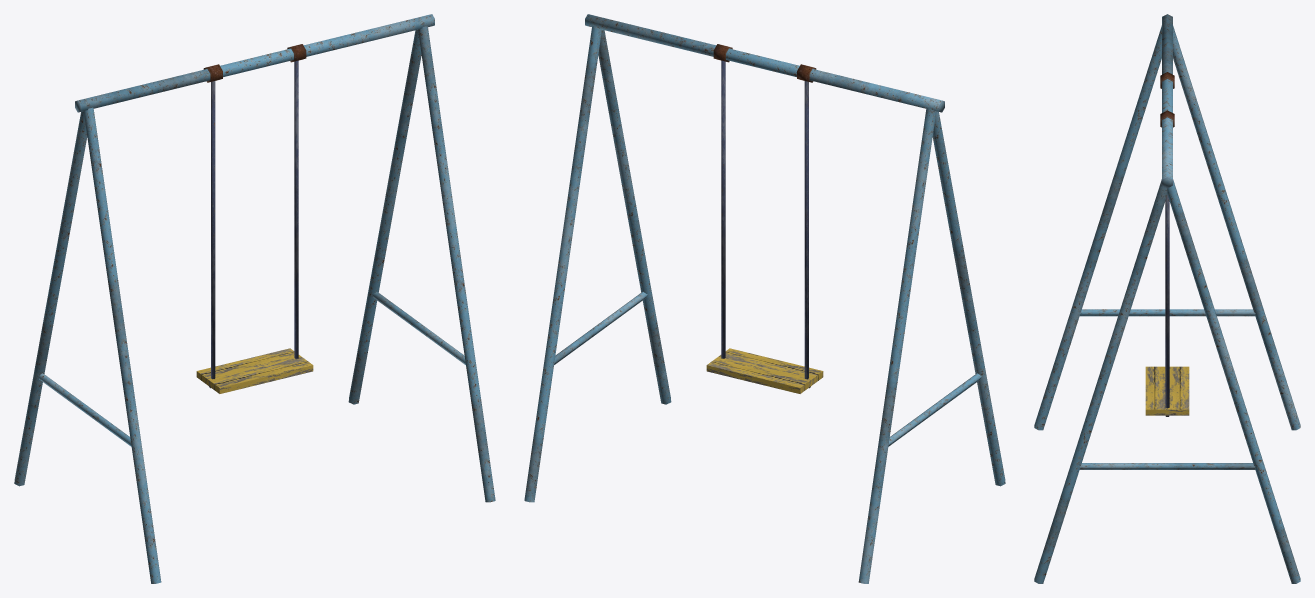
Rendered from playground_swing_lod2_web.glb.
3 views of the same model, side by side, from view 1: azimuth 30°, elevation 25°; view 2: azimuth 150°, elevation 25°; view 3: azimuth 270°, elevation 25° (orthographic). The views are drawn at different scales.
Parts seen in each view (by area): view 1: Swing_Frame, Swing_SeatMesh; view 2: Swing_Frame, Swing_SeatMesh; view 3: Swing_Frame, Swing_SeatMesh.
Boxes of the visible parts, x1,y1,x2,y2 form: Swing_Frame: (14,14,495,583); Swing_SeatMesh: (196,60,313,393); Swing_Frame: (524,14,1005,583); Swing_SeatMesh: (706,60,823,393); Swing_Frame: (1034,14,1300,583); Swing_SeatMesh: (1145,195,1189,416).
Size of the model in its own units: 2.12 by 2.5 by 1.47.
4 materials, 4 textured.
